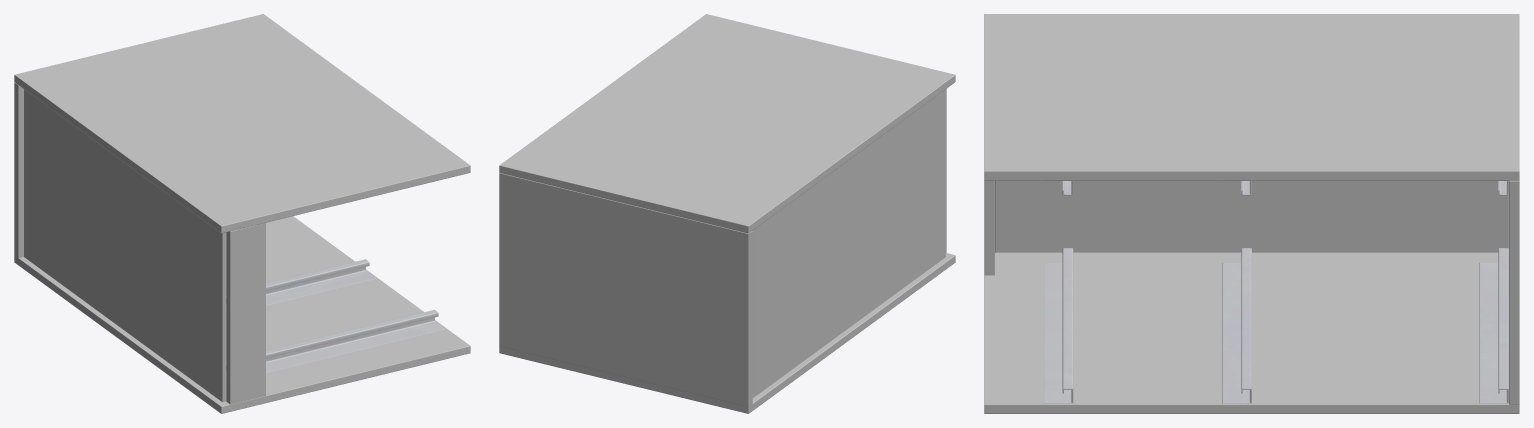
The model's file is Kitchen06Base.obj.
3 renders of one model, left to right at view 1: azimuth 30°, elevation 25°; view 2: azimuth 150°, elevation 25°; view 3: azimuth 270°, elevation 25°, orthographic. The views are drawn at different scales.
Visible parts, largest first — view 1: Kitchen06Base; view 2: Kitchen06Base; view 3: Kitchen06Base.
Part boxes in pixels (box(x1,y1,x2,y2)): Kitchen06Base: box(14, 14, 470, 413); Kitchen06Base: box(499, 14, 955, 413); Kitchen06Base: box(984, 14, 1519, 413).
Bounding box in the file's own units: 0.5549 × 0.3996 × 0.798.
Materials: 2 (1 with a texture image).
